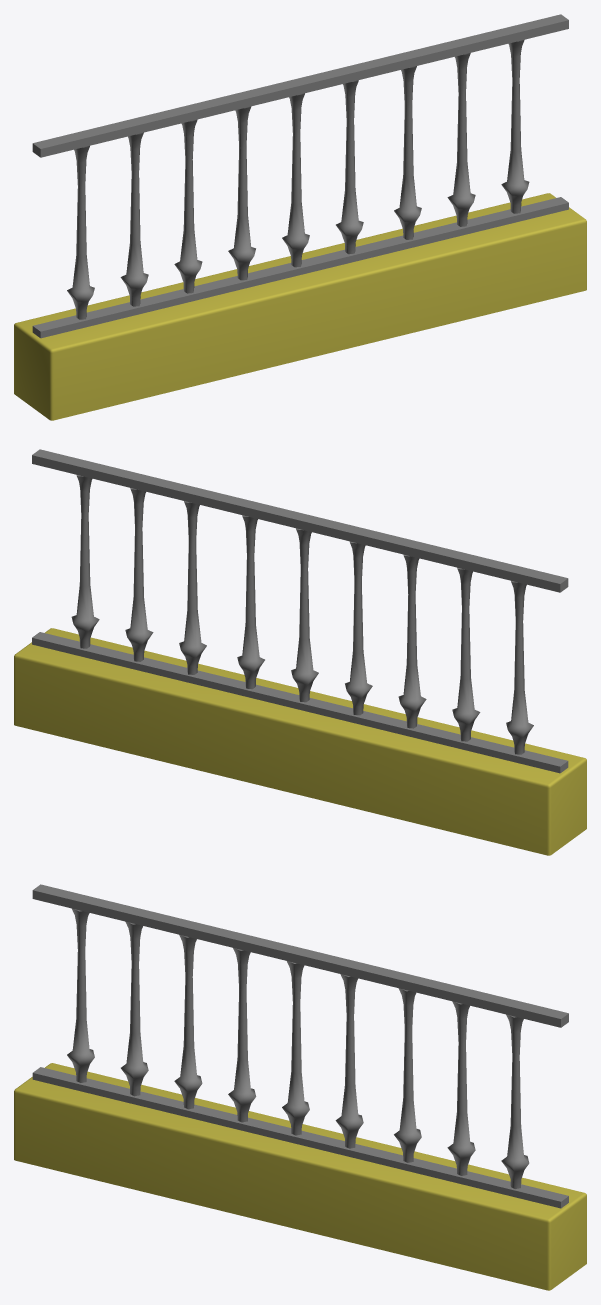
File: SM_wall_fence.fbx
3 views of the same model, one above another, from view 1: azimuth 30°, elevation 25°; view 2: azimuth 150°, elevation 25°; view 3: azimuth 330°, elevation 25° (orthographic).
Parts seen in each view (by area): view 1: Object32342; view 2: Object32342; view 3: Object32342.
Boxes of the visible parts, bbox=[...] form: Object32342: bbox=[14, 14, 586, 420]; Object32342: bbox=[14, 449, 586, 855]; Object32342: bbox=[14, 884, 586, 1290].
Bounding box in the file's own units: 120 × 55.42 × 14.76.
